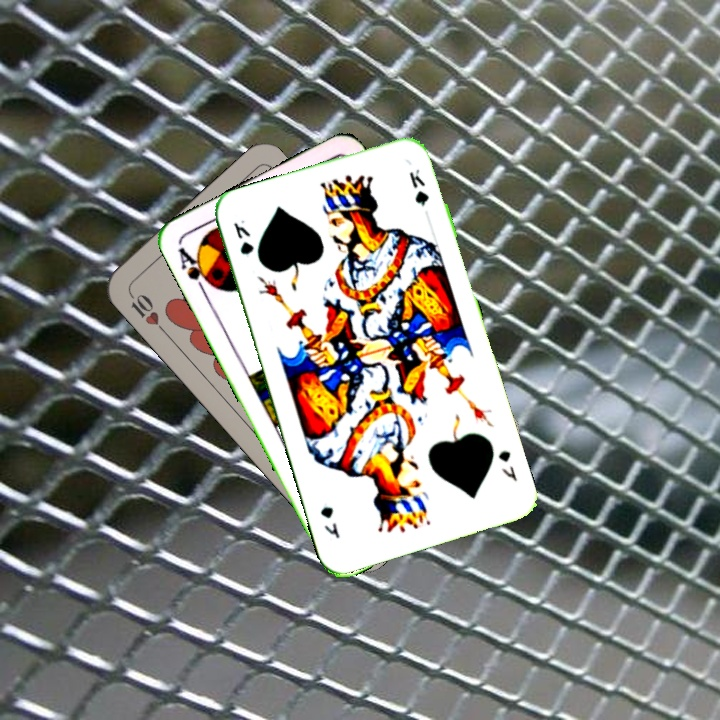GK: (229, 215, 257, 258), (494, 446, 520, 484)
H10: (125, 288, 169, 336)
SA: (173, 243, 218, 297)
